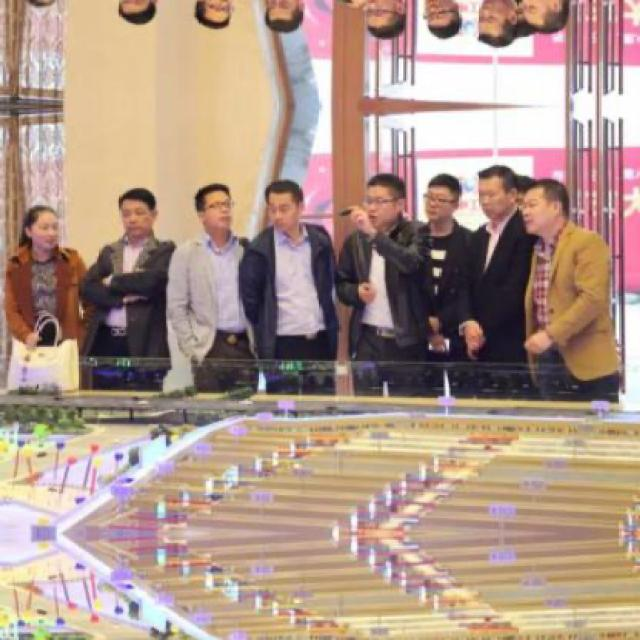sin casco: (447, 145, 540, 238), (5, 196, 80, 280), (524, 160, 590, 250), (404, 162, 476, 226), (185, 178, 250, 245), (109, 187, 174, 251), (345, 184, 401, 257), (262, 180, 326, 242)
